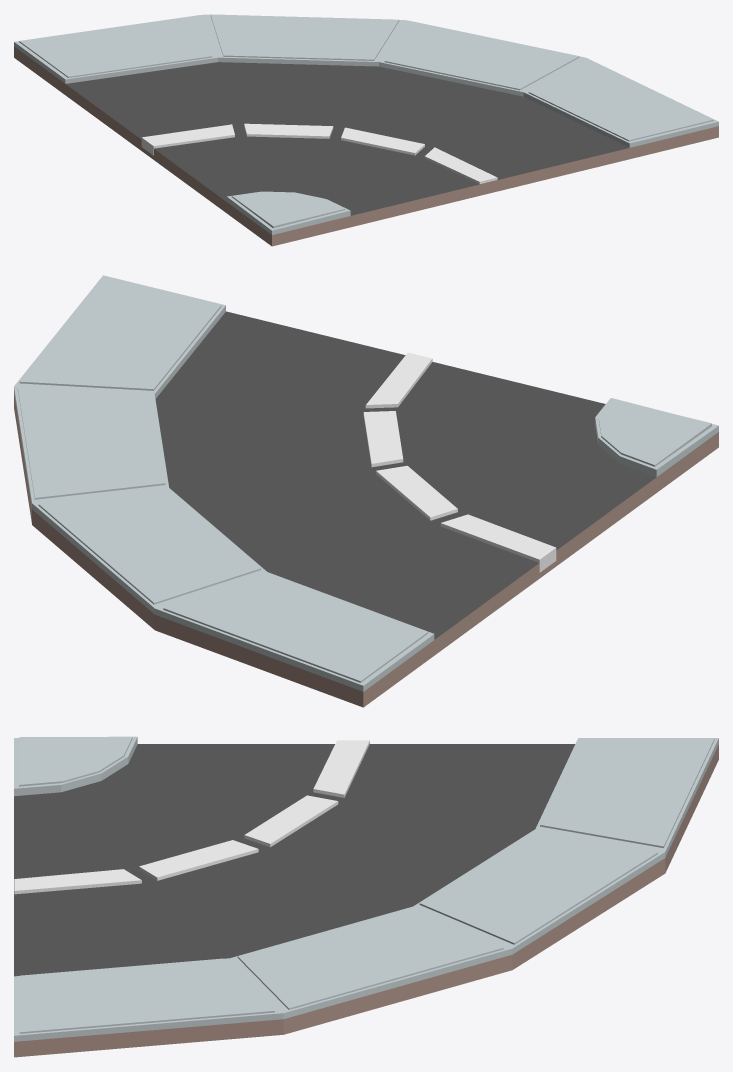
File: Curved road.glb
3 views of the same model, one above another, from view 1: azimuth 30°, elevation 25°; view 2: azimuth 150°, elevation 25°; view 3: azimuth 270°, elevation 25° (orthographic). The views are drawn at different scales.
Visible parts, largest first — view 1: Circle.002_Circle.001; view 2: Circle.002_Circle.001; view 3: Circle.002_Circle.001.
Part boxes in pixels (x1=…): Circle.002_Circle.001: x1=14, y1=14, x2=718, y2=246; Circle.002_Circle.001: x1=14, y1=275, x2=718, y2=707; Circle.002_Circle.001: x1=14, y1=736, x2=718, y2=1057.
Size of the model in its own units: 20.01 by 0.7734 by 20.
